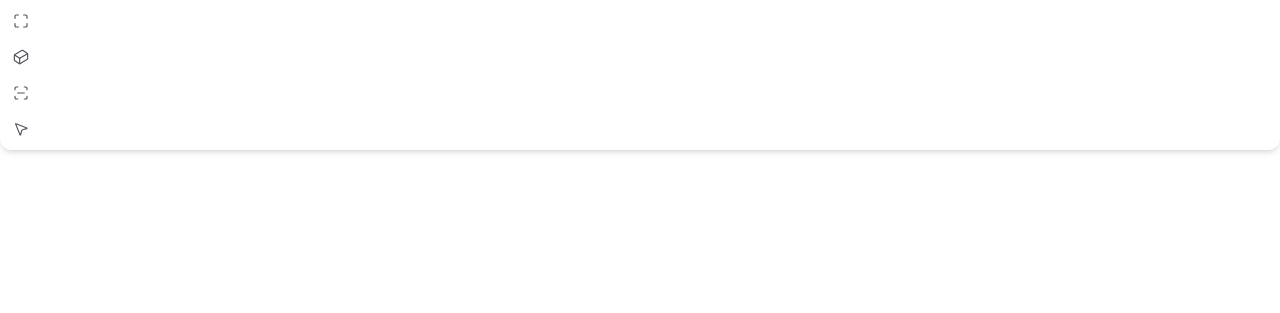
Test case: ViewportControls › a filter item toggles its kind and closes the menu
The image size is (1280, 313).
What coordinates should you click on to do the following:
click the button named "Selection filter"
I would click on:
 (21, 129)
Its box is [5,113,37,145].
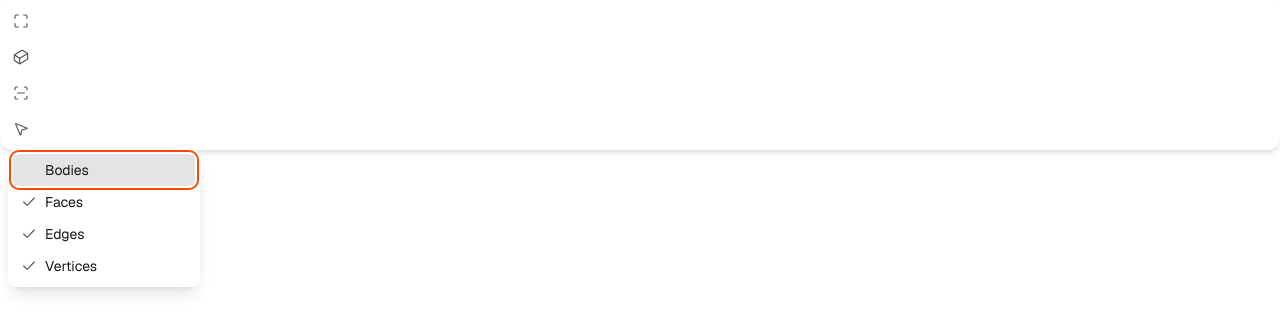
What coordinates should you click on to do the following:
click the menu item "Edges"
I would click on:
 (104, 234)
Its box is [13,218,195,250].
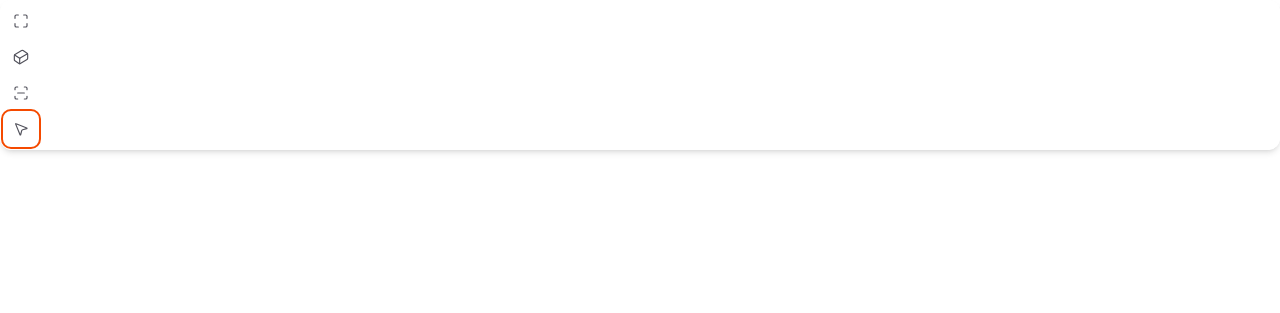
expect the menu is gone: met
